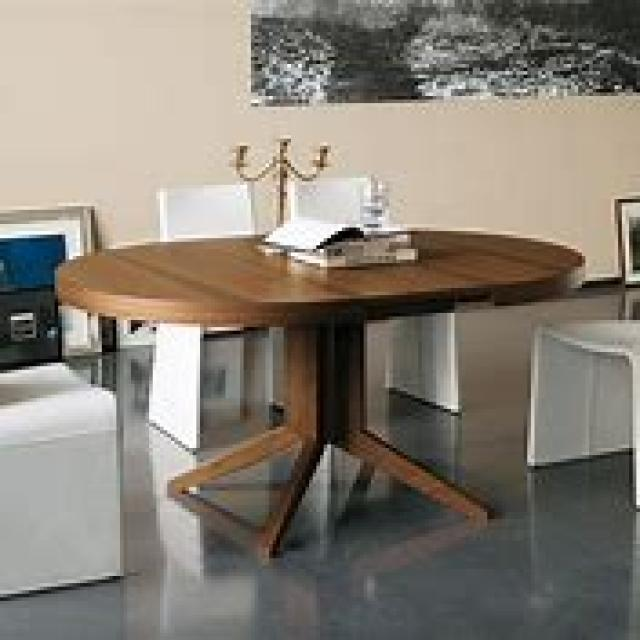table: (51, 224, 585, 558)
